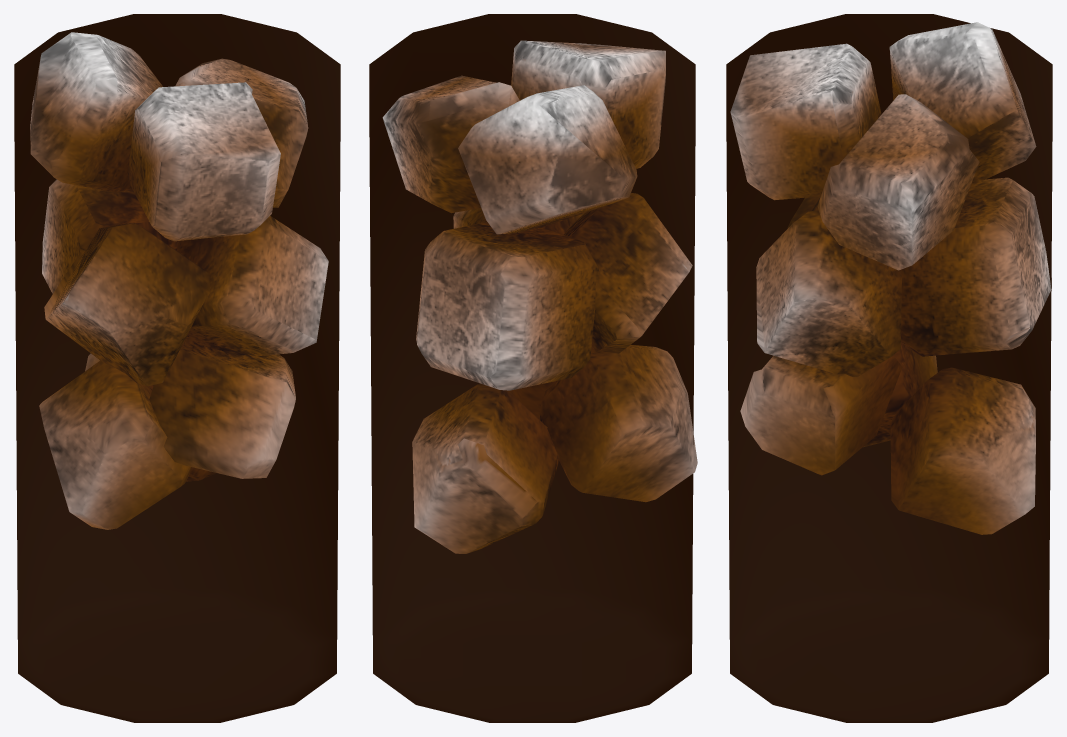
File: relleno_cold_brew_solo.glb
3 views of the same model, side by side, from view 1: azimuth 30°, elevation 25°; view 2: azimuth 150°, elevation 25°; view 3: azimuth 270°, elevation 25° (orthographic).
Parts seen in each view (by area): view 1: relleno_cold_brew; view 2: relleno_cold_brew; view 3: relleno_cold_brew.
Boxes of the visible parts, x1,y1,x2,y2 form: relleno_cold_brew: (14,14,340,722); relleno_cold_brew: (369,14,697,722); relleno_cold_brew: (726,14,1052,722).
Bounding box in the file's own units: 0.9458 × 1.95 × 0.9458.
2 materials, 1 textured.
